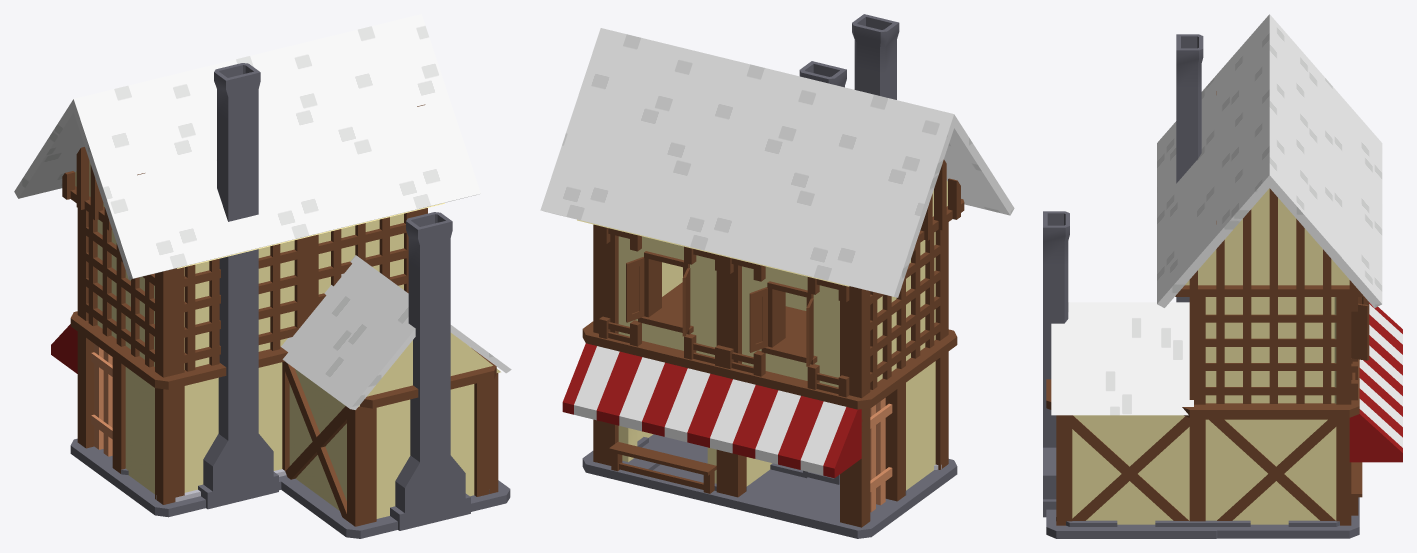
File: Forge.fbx
3 views of the same model, side by side, from view 1: azimuth 30°, elevation 25°; view 2: azimuth 150°, elevation 25°; view 3: azimuth 270°, elevation 25° (orthographic). The views are drawn at different scales.
Visible parts, largest first — view 1: roof_overhang_162, roof_overhang_35, detail_chimneyBase_37, detail_chimneyBase_41, wall_straight_31, wall_straight_4, detail_chimneyShaft_38, detail_chimneyShaft_42, wall_straight_33, detail_chimneyShaft_44, structure_pole_32, structure_pole_127 (+37 smaller); view 2: roof_overhang_162, awning_straight_41, awning_straight_42, floor_square_16, wall_windowWood%_52, wall_windowWood%_58, floor_square_14, wall_straight_5, floor_square_15, structure_pole_98, floor_square_13, structure_pole_125 (+30 smaller); view 3: roof_overhang_162, roof_overhang_35, wall_straight_30, wall_straight_14, wall_straight_1, roof_default_161, awning_straight_42, floor_square_13, floor_square_11, detail_chimneyShaft_44, awning_straight_41, detail_chimneyShaft_38 (+32 smaller).
Part boxes in pixels (x1,y1,x2,y2): roof_overhang_162: (14, 14, 480, 279); roof_overhang_35: (281, 255, 511, 409); detail_chimneyBase_37: (390, 391, 470, 530); detail_chimneyBase_41: (198, 369, 278, 509); wall_straight_31: (376, 384, 474, 518); wall_straight_4: (184, 362, 282, 492); detail_chimneyShaft_38: (408, 263, 450, 398); detail_chimneyShaft_42: (219, 249, 258, 376); wall_straight_33: (289, 369, 346, 510); detail_chimneyShaft_44: (217, 114, 258, 221); structure_pole_32: (347, 406, 376, 526); structure_pole_127: (155, 386, 184, 504); roof_overhang_162: (540, 28, 1014, 297); awning_straight_41: (698, 376, 862, 478); awning_straight_42: (562, 343, 721, 444); floor_square_16: (719, 459, 957, 538); wall_windowWood%_52: (742, 266, 839, 387); wall_windowWood%_58: (618, 236, 716, 357); floor_square_14: (721, 314, 957, 409); wall_straight_5: (906, 361, 935, 490); floor_square_15: (582, 434, 770, 505); structure_pole_98: (840, 286, 870, 398); floor_square_13: (582, 282, 806, 376); structure_pole_125: (840, 408, 870, 527); roof_overhang_162: (1157, 14, 1382, 308); roof_overhang_35: (1051, 302, 1193, 415); wall_straight_30: (1205, 419, 1336, 524); wall_straight_14: (1072, 415, 1189, 524); wall_straight_1: (1205, 297, 1334, 403); roof_default_161: (1185, 188, 1349, 285); awning_straight_42: (1349, 359, 1402, 462); floor_square_13: (1182, 359, 1359, 417); floor_square_11: (1046, 509, 1224, 538); detail_chimneyShaft_44: (1176, 88, 1201, 183); awning_straight_41: (1369, 302, 1402, 390); detail_chimneyShaft_38: (1043, 265, 1068, 387).
Size of the model in its own units: 28.6 by 33.3 by 27.
